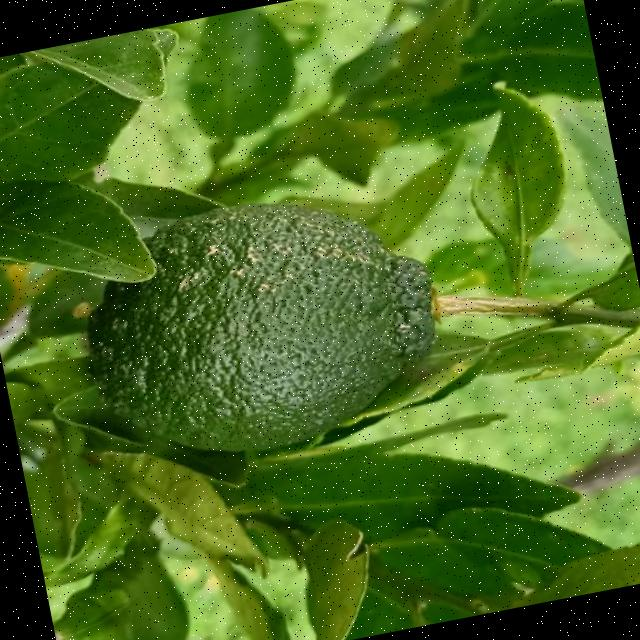Unripe: (67, 168, 464, 478)
